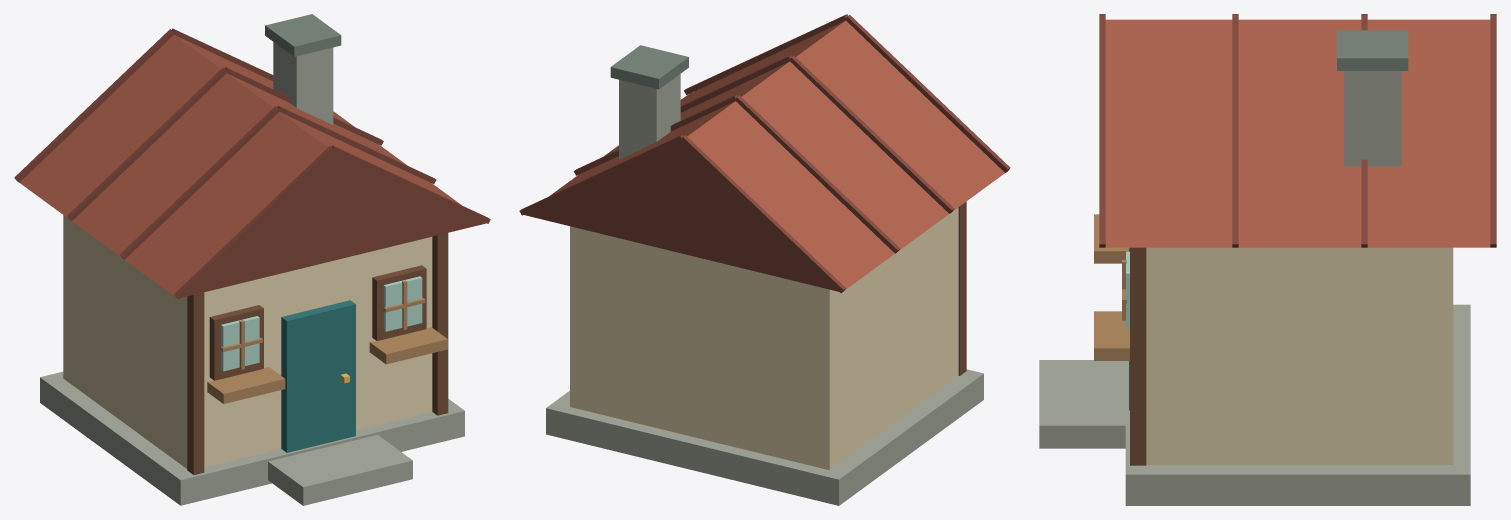
File: cottage.glb
3 renders of one model, left to right at view 1: azimuth 30°, elevation 25°; view 2: azimuth 150°, elevation 25°; view 3: azimuth 270°, elevation 25°, orthographic. The views are drawn at different scales.
Parts seen in each view (by area): view 1: cottage; view 2: cottage; view 3: cottage.
Boxes of the visible parts, <box> form: cottage: <box>14,14,490,505</box>; cottage: <box>519,14,1010,505</box>; cottage: <box>1039,14,1496,505</box>.
Bounding box in the file's own units: 3.87 × 4.08 × 3.98.
